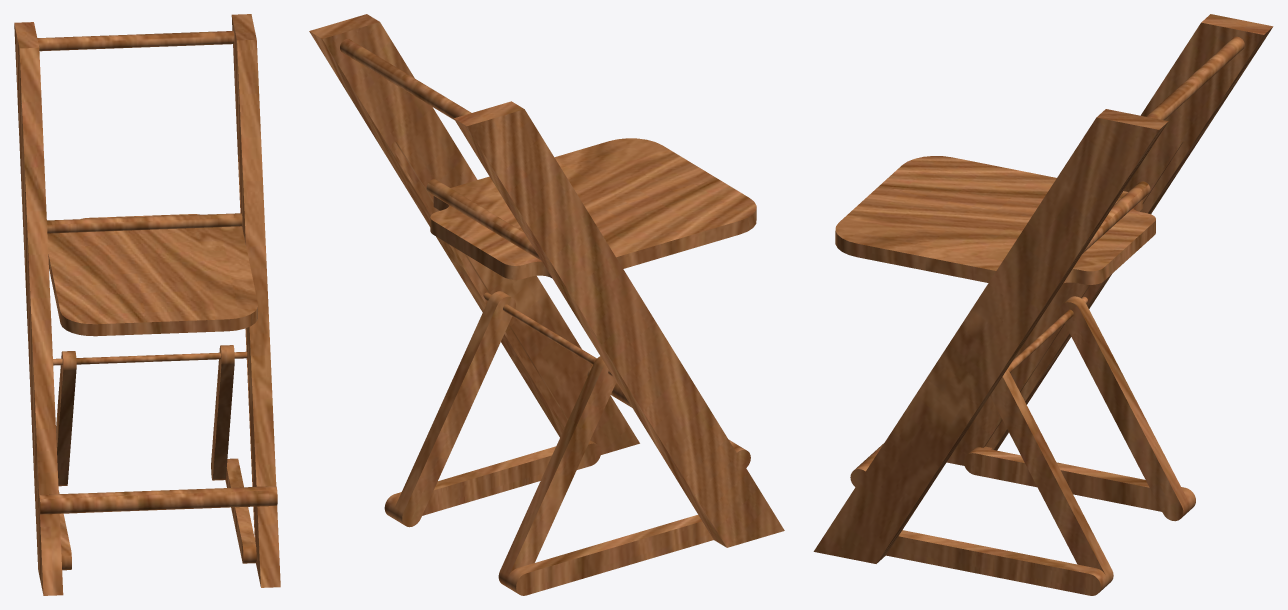
The model's file is Folding chair.glb.
3 renders of one model, left to right at view 1: azimuth 30°, elevation 25°; view 2: azimuth 150°, elevation 25°; view 3: azimuth 270°, elevation 25°, orthographic. The views are drawn at different scales.
Visible parts, largest first — view 1: Body1, Body2, Body3; view 2: Body1, Body2, Body3; view 3: Body1, Body2, Body3.
Part boxes in pixels (x1,y1,x2,y2): Body1: (14,14,280,595); Body2: (47,213,257,336); Body3: (37,31,234,51); Body1: (309,14,784,595); Body2: (426,138,756,279); Body3: (340,38,471,119); Body1: (813,14,1273,595); Body2: (835,156,1155,284); Body3: (1146,36,1244,120).
Bounding box in the file's own units: 0.0687 × 0.0914 × 0.0778.
Materials: 3 (3 with a texture image).
